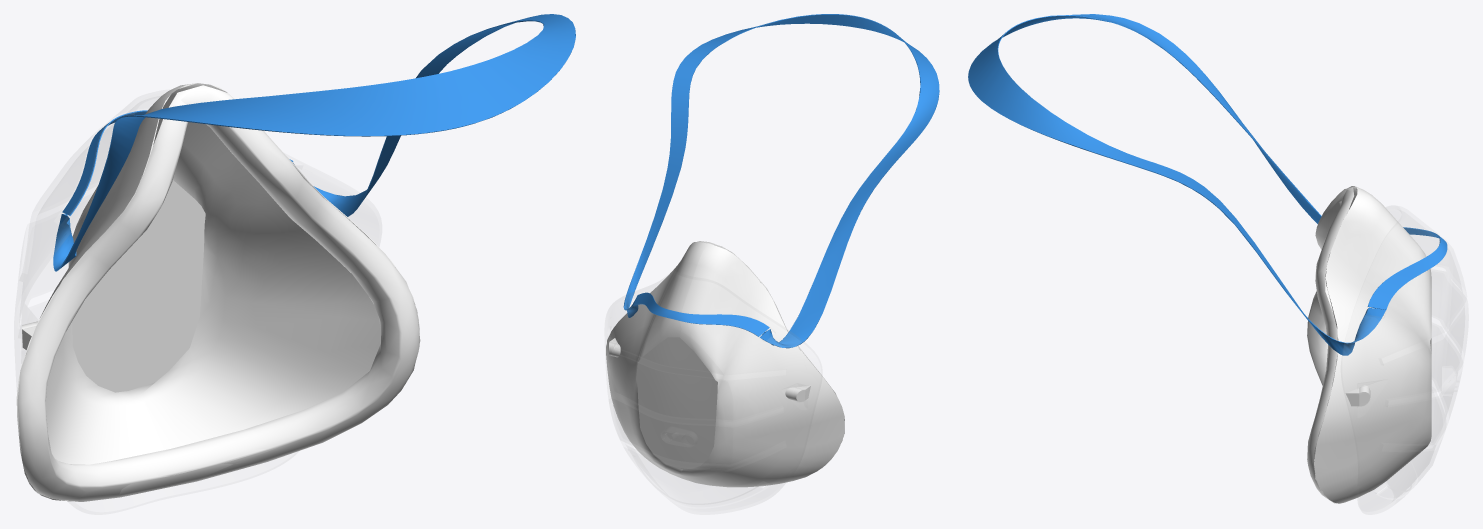
The model's file is mask_lq.dae.
3 views of the same model, side by side, from view 1: azimuth 30°, elevation 25°; view 2: azimuth 150°, elevation 25°; view 3: azimuth 270°, elevation 25° (orthographic). The views are drawn at different scales.
Parts seen in each view (by area): view 1: a212c0f2-1710-4149-a2c2-147add1613e8, ce2592b5-5d51-4afb-a0c1-f5f376aea4aa, ac4561ea-0938-4ef8-9c39-e52d3610cddb, a94eedcf-4e8f-44c3-8915-b60644290478, a3af2d40-1414-4349-ba9e-83bbff4bdc0b; view 2: a212c0f2-1710-4149-a2c2-147add1613e8, ac4561ea-0938-4ef8-9c39-e52d3610cddb, a3af2d40-1414-4349-ba9e-83bbff4bdc0b, a94eedcf-4e8f-44c3-8915-b60644290478; view 3: a212c0f2-1710-4149-a2c2-147add1613e8, ac4561ea-0938-4ef8-9c39-e52d3610cddb, a94eedcf-4e8f-44c3-8915-b60644290478, ce2592b5-5d51-4afb-a0c1-f5f376aea4aa, a3af2d40-1414-4349-ba9e-83bbff4bdc0b.
Boxes of the visible parts, x1,y1,x2,y2 form: a212c0f2-1710-4149-a2c2-147add1613e8: (16,83,419,501); ce2592b5-5d51-4afb-a0c1-f5f376aea4aa: (17,85,420,501); ac4561ea-0938-4ef8-9c39-e52d3610cddb: (53,14,575,271); a94eedcf-4e8f-44c3-8915-b60644290478: (18,96,303,363); a3af2d40-1414-4349-ba9e-83bbff4bdc0b: (62,110,293,215); a212c0f2-1710-4149-a2c2-147add1613e8: (606,242,844,487); ac4561ea-0938-4ef8-9c39-e52d3610cddb: (623,14,939,348); a3af2d40-1414-4349-ba9e-83bbff4bdc0b: (633,292,769,336); a94eedcf-4e8f-44c3-8915-b60644290478: (606,306,805,504); a212c0f2-1710-4149-a2c2-147add1613e8: (1313,186,1431,503); ac4561ea-0938-4ef8-9c39-e52d3610cddb: (968,14,1385,355); a94eedcf-4e8f-44c3-8915-b60644290478: (1357,209,1466,502); ce2592b5-5d51-4afb-a0c1-f5f376aea4aa: (1307,187,1354,503); a3af2d40-1414-4349-ba9e-83bbff4bdc0b: (1367,227,1447,309).
Size of the model in its own units: 41.65 by 61.07 by 60.4.
